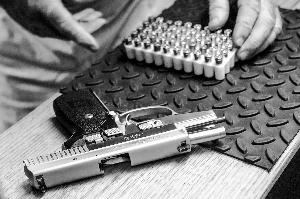handgun: (20, 81, 230, 194)
